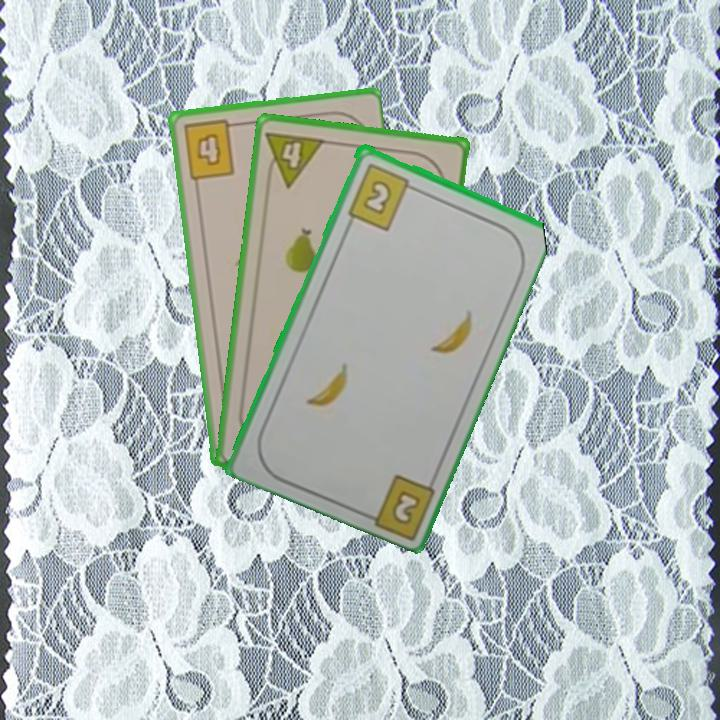2b: (344, 159, 420, 233), (388, 486, 424, 527)
4b: (179, 117, 242, 183)
4p: (262, 127, 328, 190)
